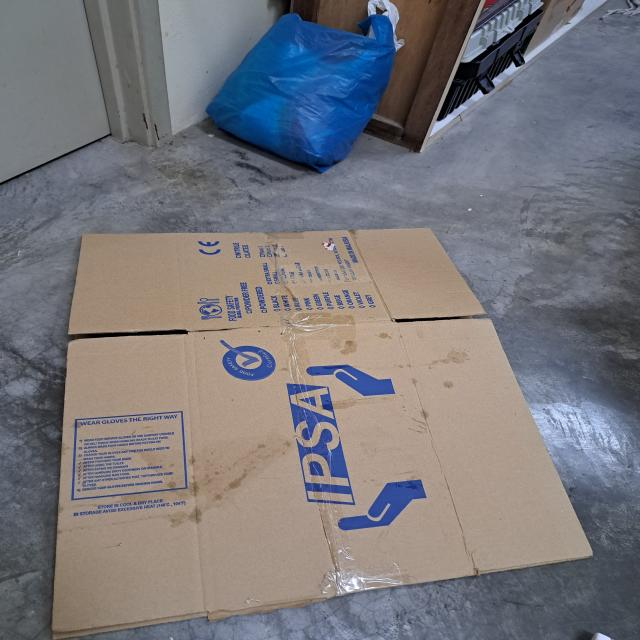cardboard: (54, 229, 593, 640)
plastic bag: (213, 14, 396, 172)
